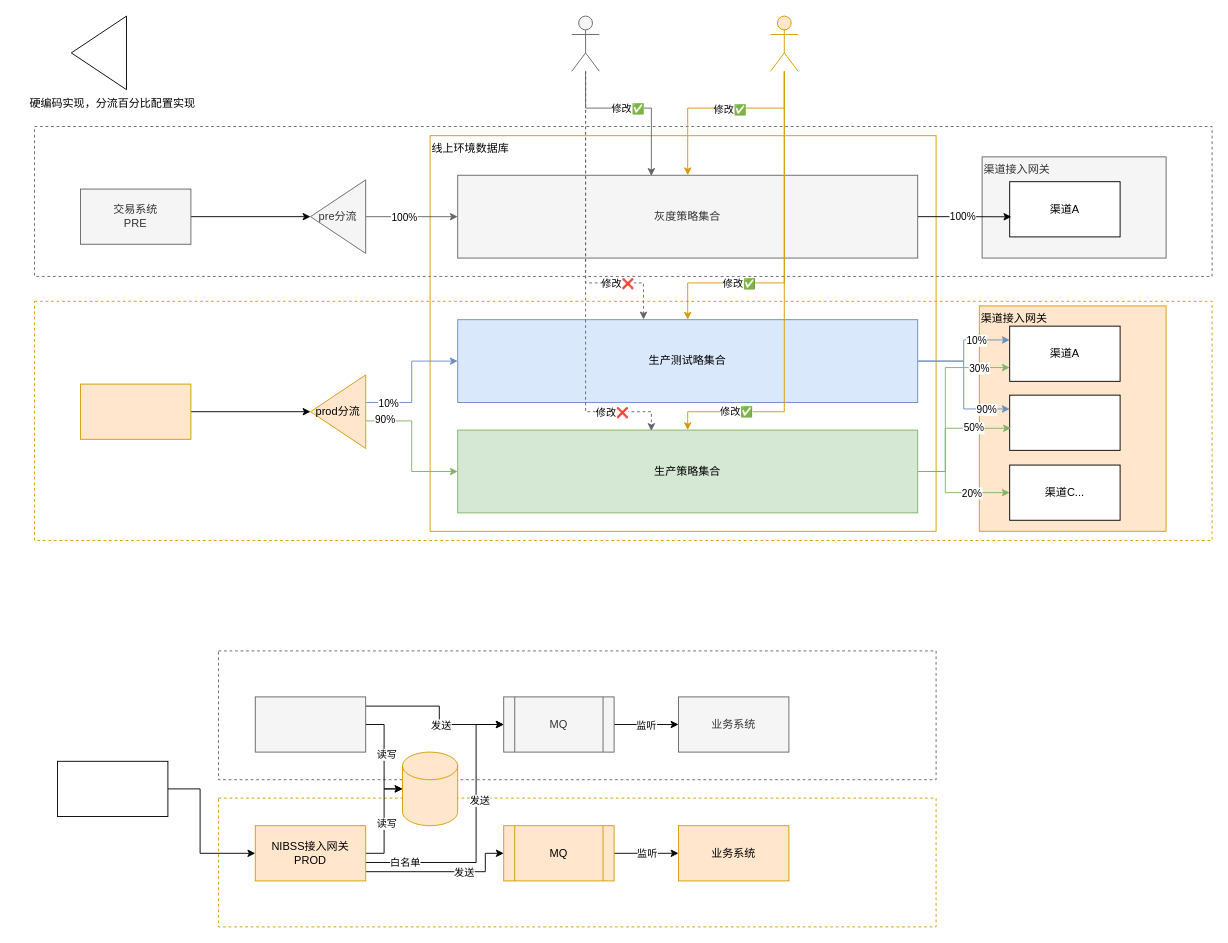
The diagram is 1228 pixels wide and 943 high, and some of its shapes have lost their labels. Here are the shapes that lost their labels. From the top down, the centre of each, then its label:
At point (98, 52): "分流器".
At point (585, 43): "灰度环境".
At point (784, 43): "线上环境".
At point (135, 411): "交易系统 RPOD".
At point (1064, 422): "渠道B".
At point (310, 724): "NIBSS接入网关 PRE".
At point (112, 788): "外部渠道 NIBSS".
At point (430, 788): "DB".
